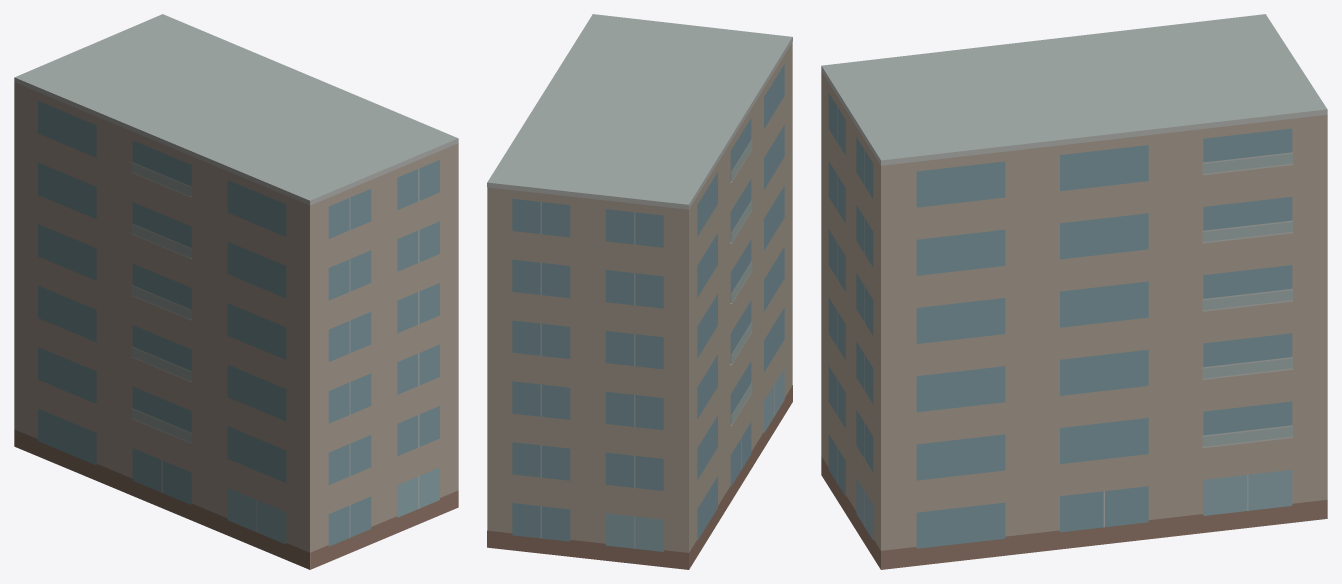
File: survey-upis-32710938.glb
3 renders of one model, left to right at view 1: azimuth 30°, elevation 25°; view 2: azimuth 150°, elevation 25°; view 3: azimuth 270°, elevation 25°, orthographic. The views are drawn at different scales.
Parts seen in each view (by area): view 1: survey-upis-32710938.tmp; view 2: survey-upis-32710938.tmp; view 3: survey-upis-32710938.tmp.
Part boxes in pixels (box(x1,y1,x2,y2)): survey-upis-32710938.tmp: box(14, 14, 458, 569); survey-upis-32710938.tmp: box(487, 14, 792, 569); survey-upis-32710938.tmp: box(821, 14, 1327, 569).
Size of the model in its own units: 14.32 by 18.65 by 20.91.
